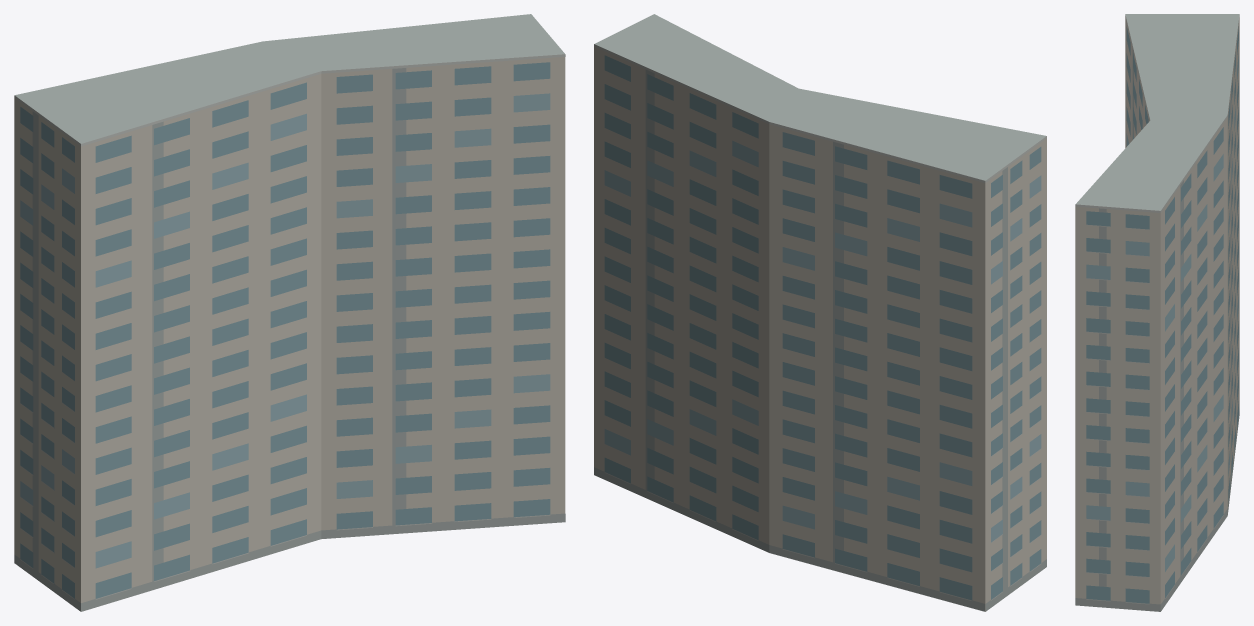
File: residential-121b9757-ece8-4299-a81a-89eff04412c6.glb
3 renders of one model, left to right at view 1: azimuth 30°, elevation 25°; view 2: azimuth 150°, elevation 25°; view 3: azimuth 270°, elevation 25°, orthographic. The views are drawn at different scales.
Parts seen in each view (by area): view 1: residential-121b9757-ece8-4299-a81a-89eff04412c6.tmp; view 2: residential-121b9757-ece8-4299-a81a-89eff04412c6.tmp; view 3: residential-121b9757-ece8-4299-a81a-89eff04412c6.tmp.
Part boxes in pixels (x1=…): residential-121b9757-ece8-4299-a81a-89eff04412c6.tmp: x1=14, y1=14, x2=565, y2=611; residential-121b9757-ece8-4299-a81a-89eff04412c6.tmp: x1=594, y1=14, x2=1046, y2=611; residential-121b9757-ece8-4299-a81a-89eff04412c6.tmp: x1=1075, y1=14, x2=1239, y2=611.
Bounding box in the file's own units: 46.35 × 44 × 16.33.
